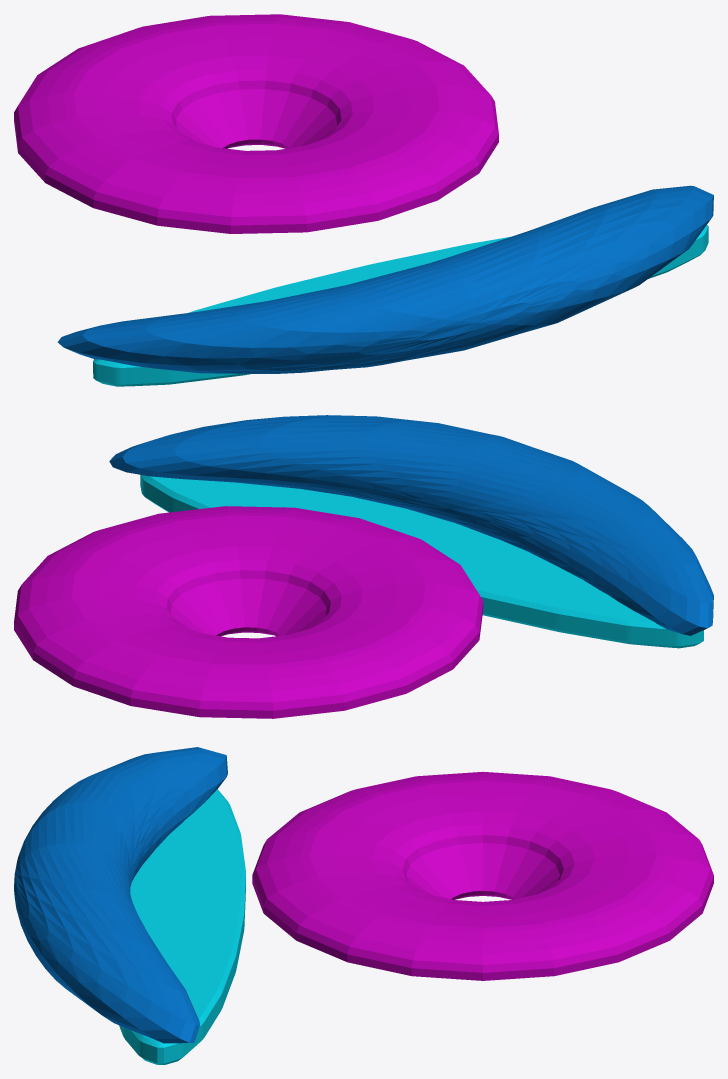
The model's file is TableSofa.fbx.
The picture shows the model from 3 angles, top to bottom: view 1: azimuth 30°, elevation 25°; view 2: azimuth 150°, elevation 25°; view 3: azimuth 270°, elevation 25°; orthographic projection. The views are drawn at different scales.
Visible parts, largest first — view 1: polySurface2, pSphere1, pCylinder1; view 2: polySurface2, pSphere1, pCylinder1; view 3: polySurface2, pSphere1, pCylinder1.
Boxes of the visible parts, x1,y1,x2,y2 form: polySurface2: (14, 14, 498, 233); pSphere1: (57, 185, 713, 373); pCylinder1: (93, 225, 708, 386); polySurface2: (14, 506, 483, 718); pSphere1: (109, 415, 713, 635); pCylinder1: (140, 475, 703, 648); polySurface2: (252, 771, 713, 980); pSphere1: (14, 747, 227, 1043); pCylinder1: (119, 789, 245, 1064).
Bounding box in the file's own units: 26.28 × 3.68 × 26.46.
